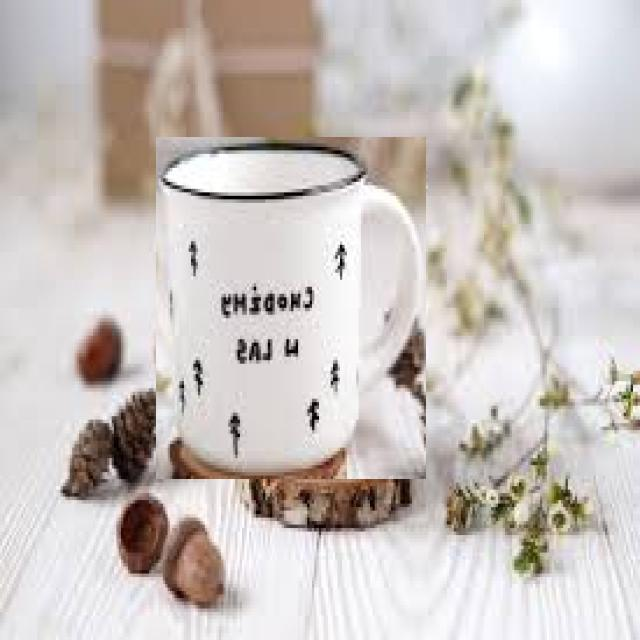Coffee Mug: (160, 144, 425, 475)
